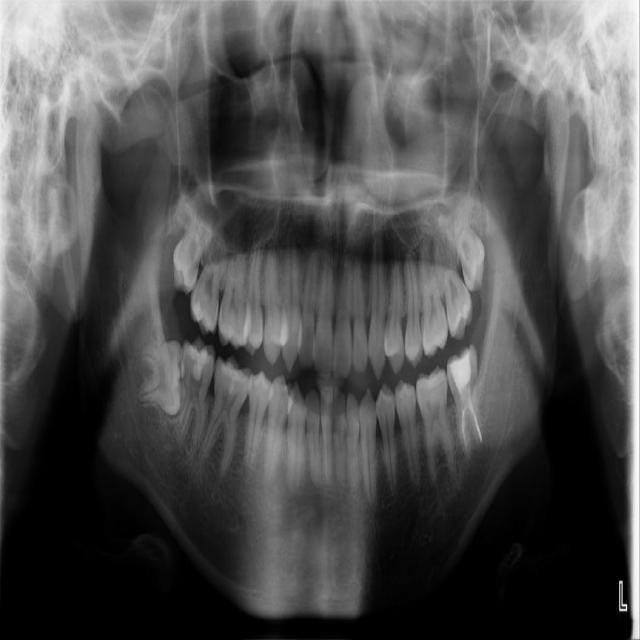3M ESPE Implant: (167, 200, 211, 295)
52: (199, 349, 262, 413), (179, 335, 217, 391), (447, 343, 478, 402)
73: (453, 380, 486, 459), (598, 596, 604, 606)
BioHorizons Implant: (423, 212, 480, 342)
BioLife Implant: (444, 192, 494, 294)
Blue Sky Bio Implant: (444, 342, 486, 460)
Caries: (184, 223, 232, 337)
Implant: (173, 334, 217, 452)
Keystone Dental Implant: (138, 340, 186, 414)
